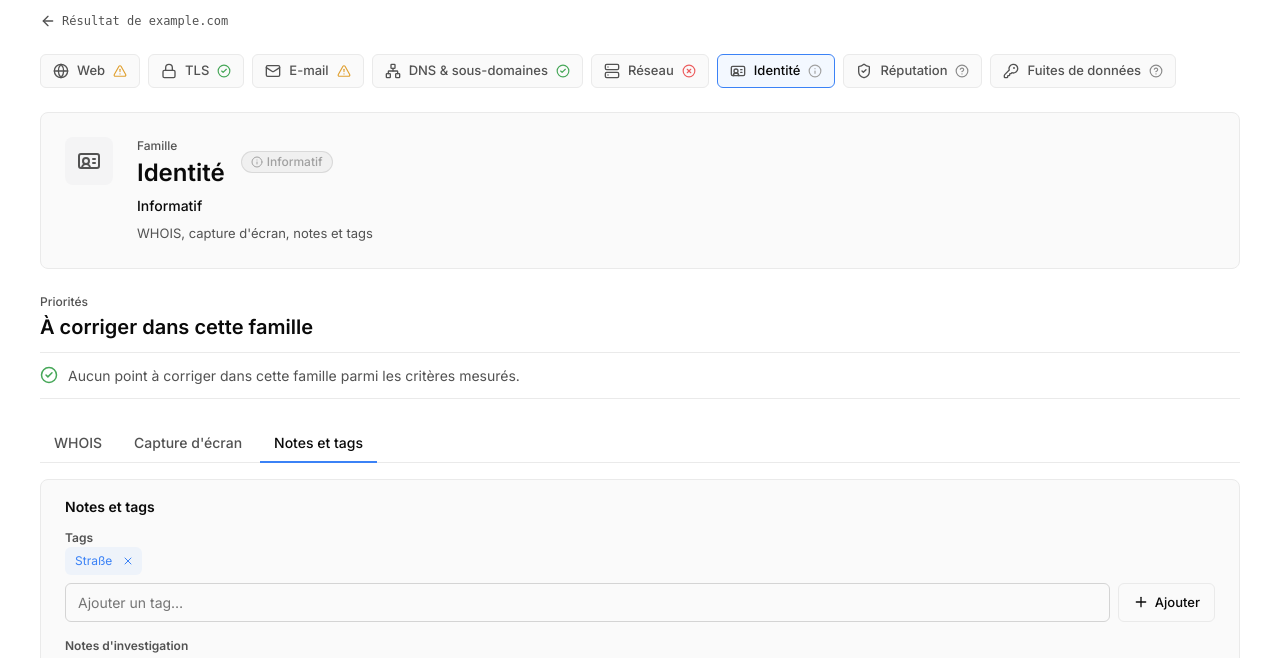
Test: notes et tags › refuse un doublon qui ne diffère que par la casse Unicode (ß / SS)
In the field with placeholder "Ajouter un tag…": [587, 602] box 65,583 -> 1110,622, type "STRASSE"
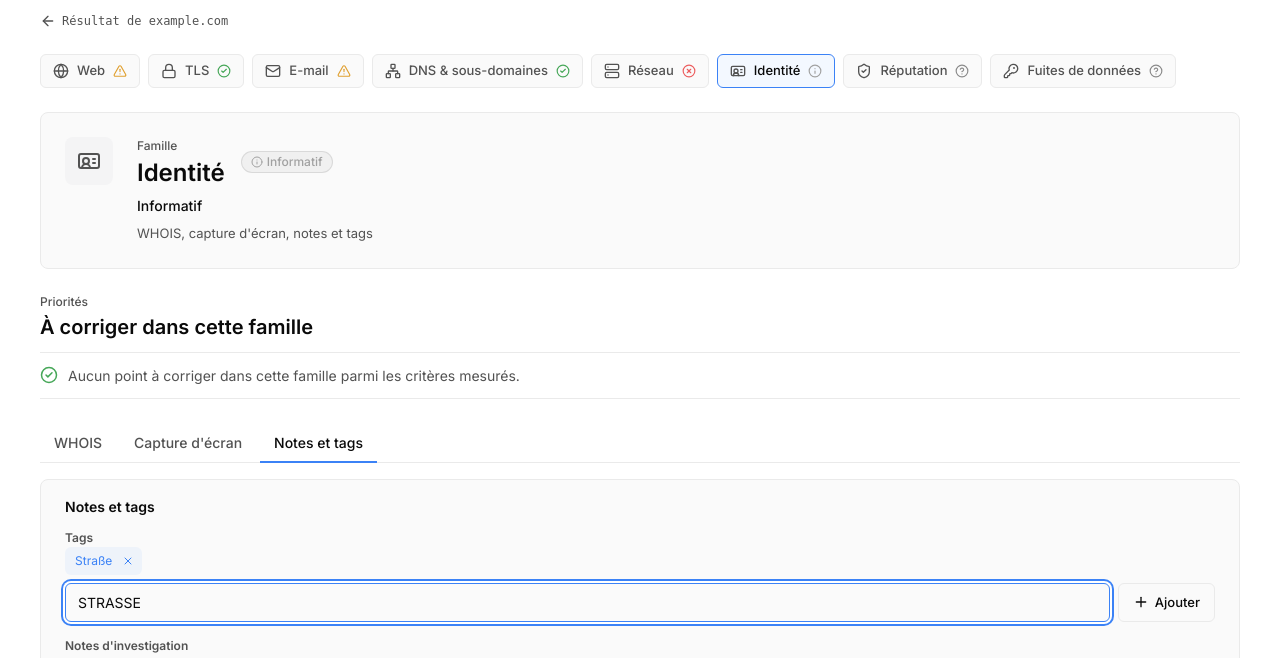
Click the button "Ajouter": [1166, 602] box 1118,583 -> 1215,622
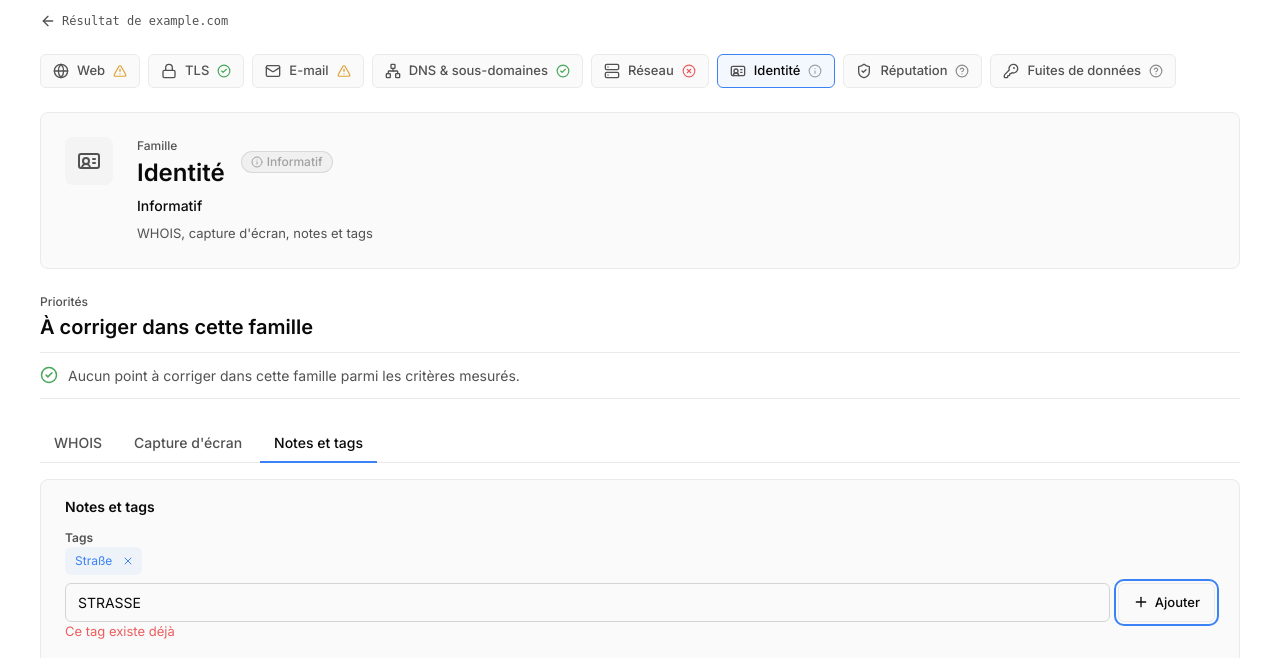
Result: the text "Ce tag existe déjà" is shown at 65,623 -> 175,639
